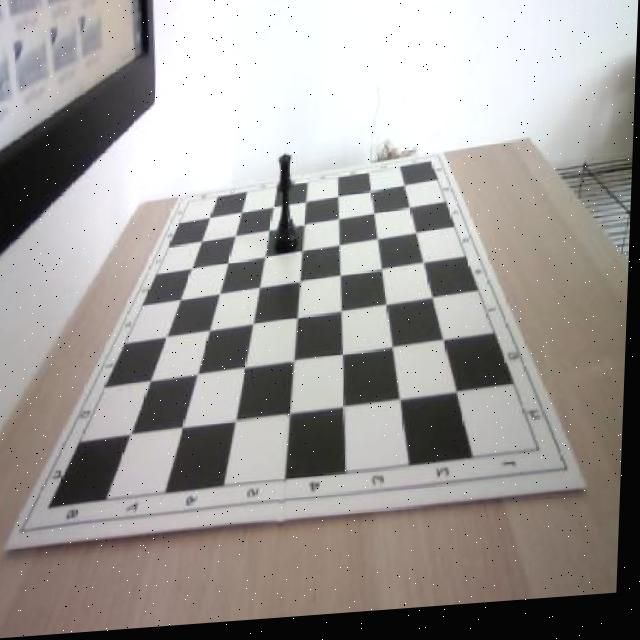black-pawn: (272, 156, 302, 259)
